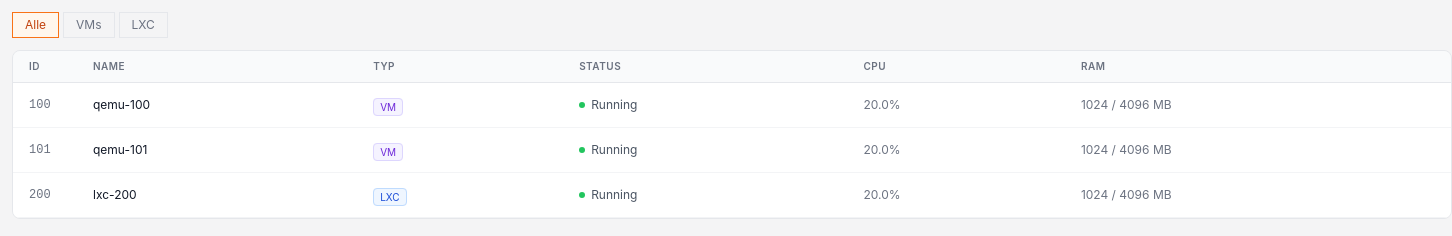
Test: ComputeVmSection › AC-3: VMs filter shows only qemu entries
Click the button "VMs".
click(89, 25)  # box [63, 12, 115, 38]
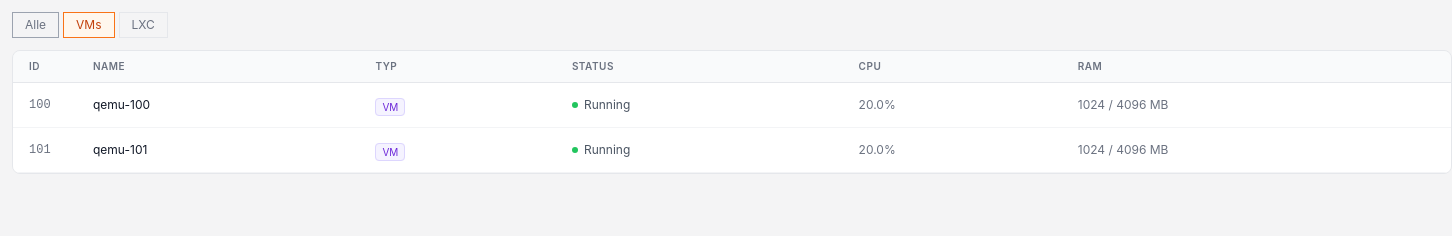
Check: the text "qemu-100" is shown, box [77, 82, 359, 128]
Check: the text "lxc-200" is gone
